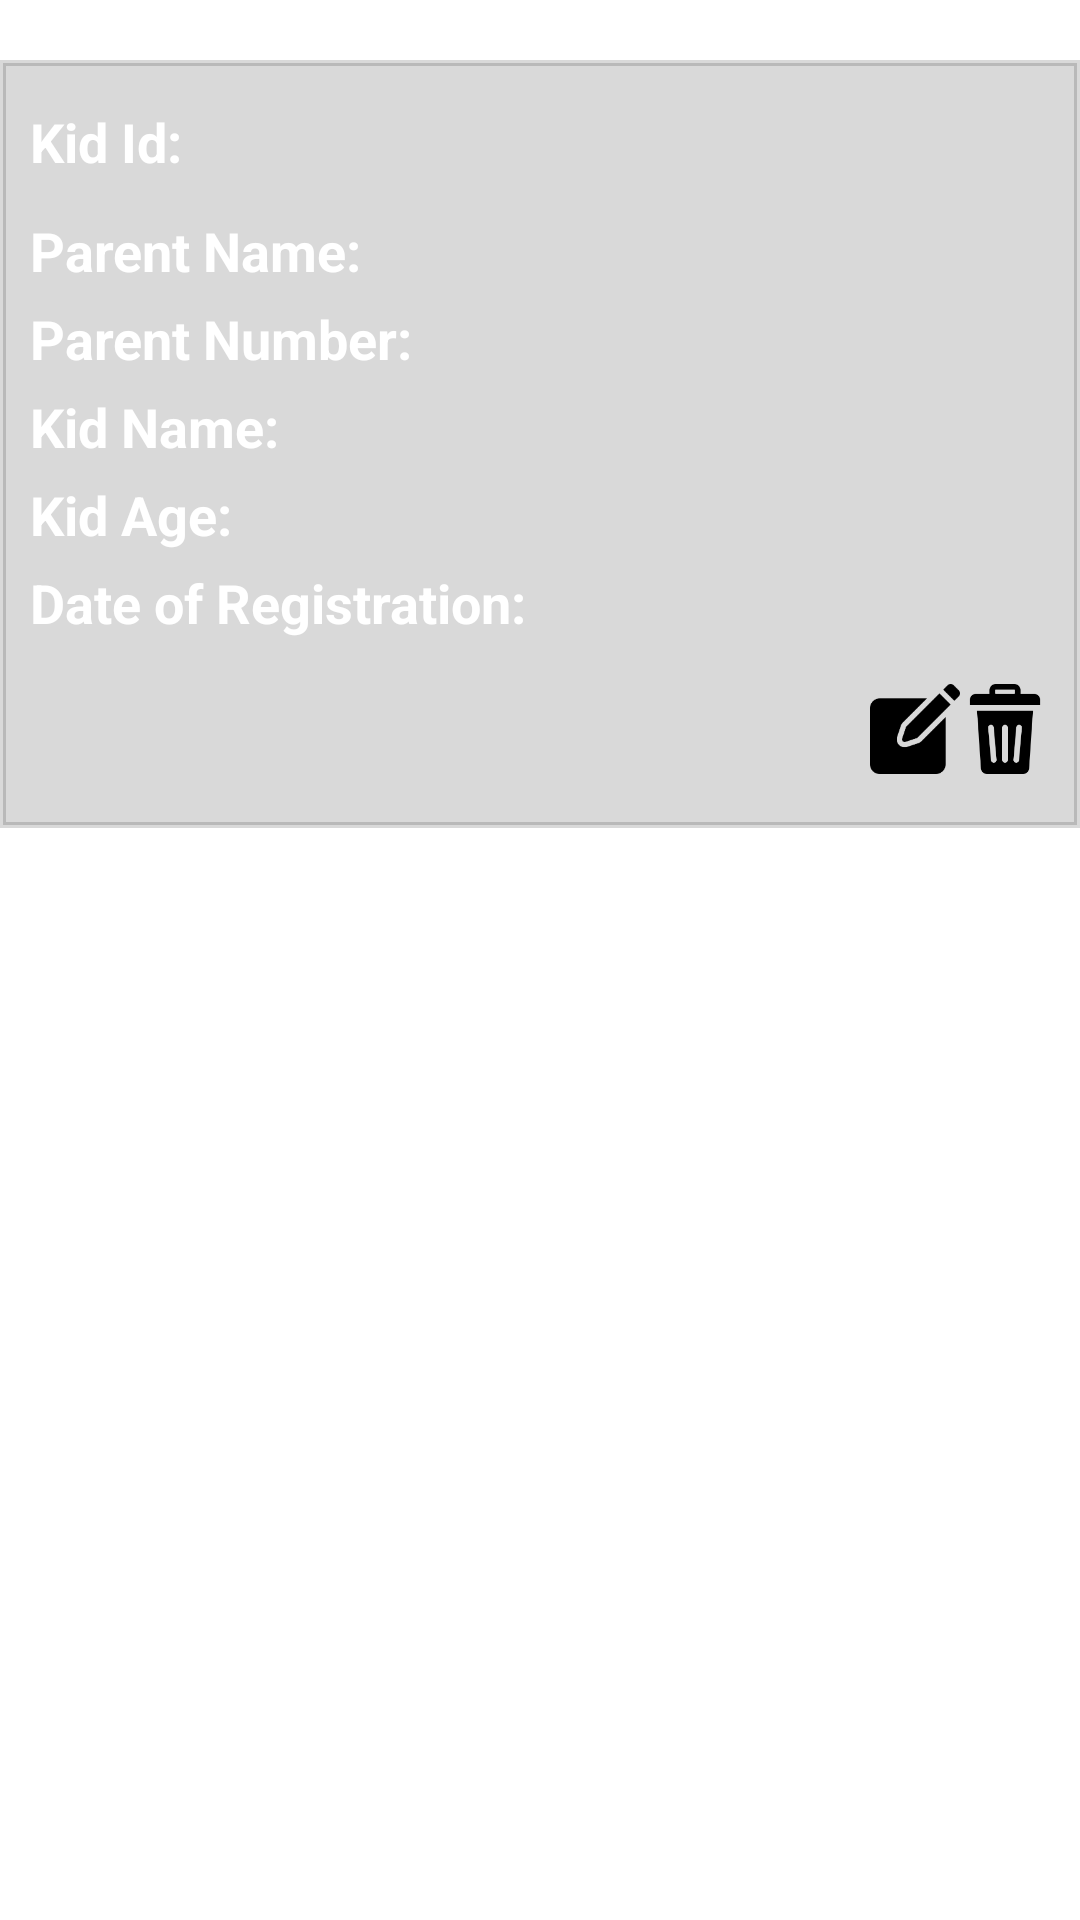

Named icons in this screenshot (1080×1920) and their bounding boxes, (x1, y1, x2, y2):
delete: (970, 684, 1040, 774)
edit: (870, 684, 960, 774)
